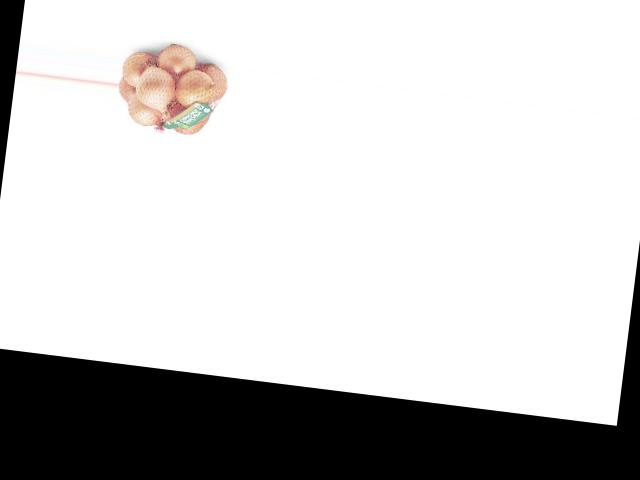onion: (191, 61, 232, 100)
